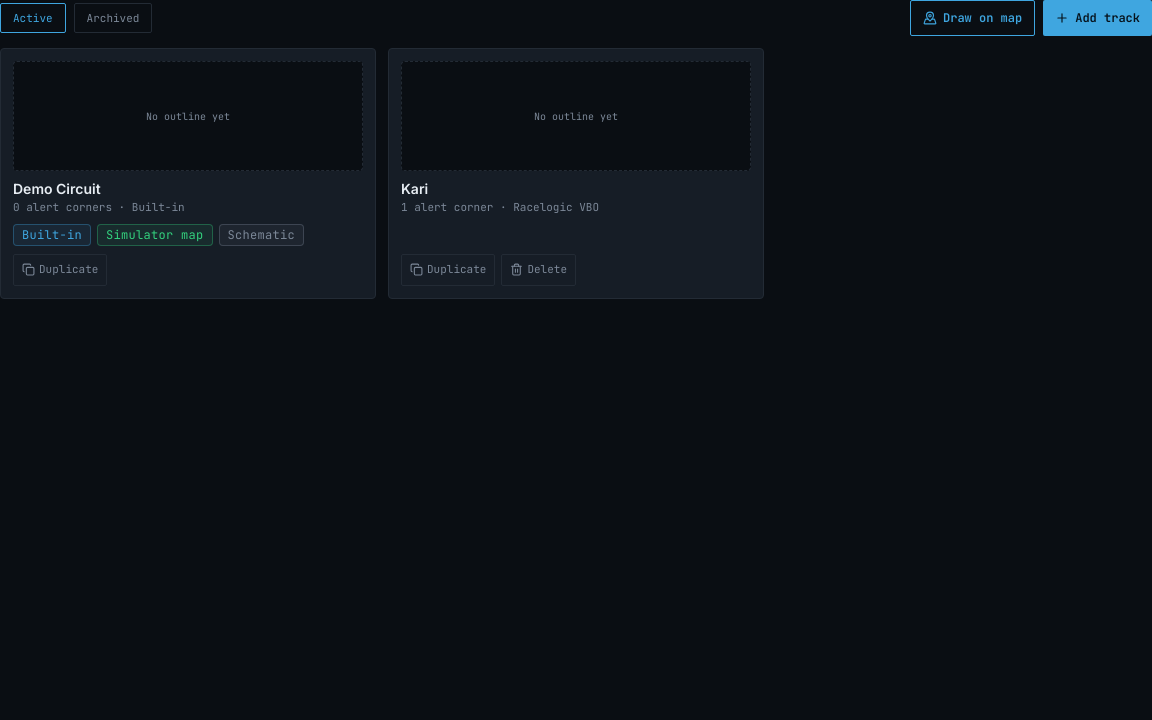
Test case: MapsBrowser › asks with the new Delete wording before deleting or archiving
Later steps or results of the test are not shown.
Step 1. Click the button with test id "archive-Kari" → (539,270), box [501,254,576,286]
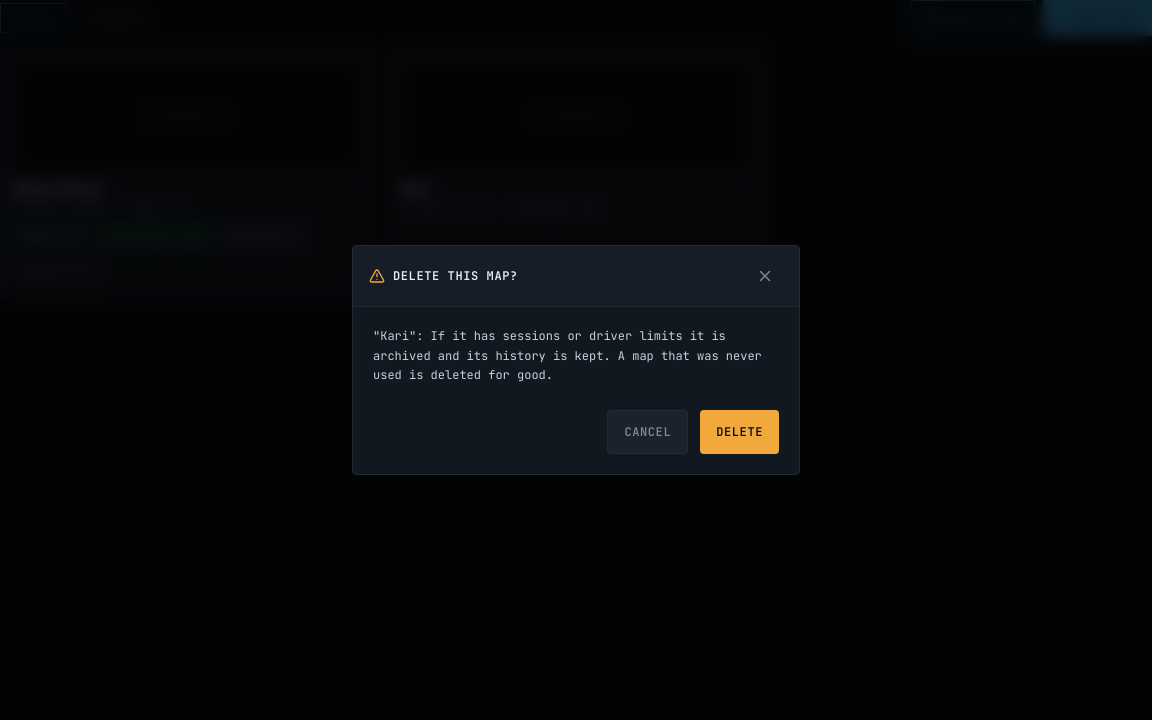
Check: the text "Delete this map?" is shown, box [393,268,518,284]
Check: the text "If it has sessions or driver limits it is archived and its history is kept. A map that was never used is deleted for go" is shown, box [373,328,762,383]
